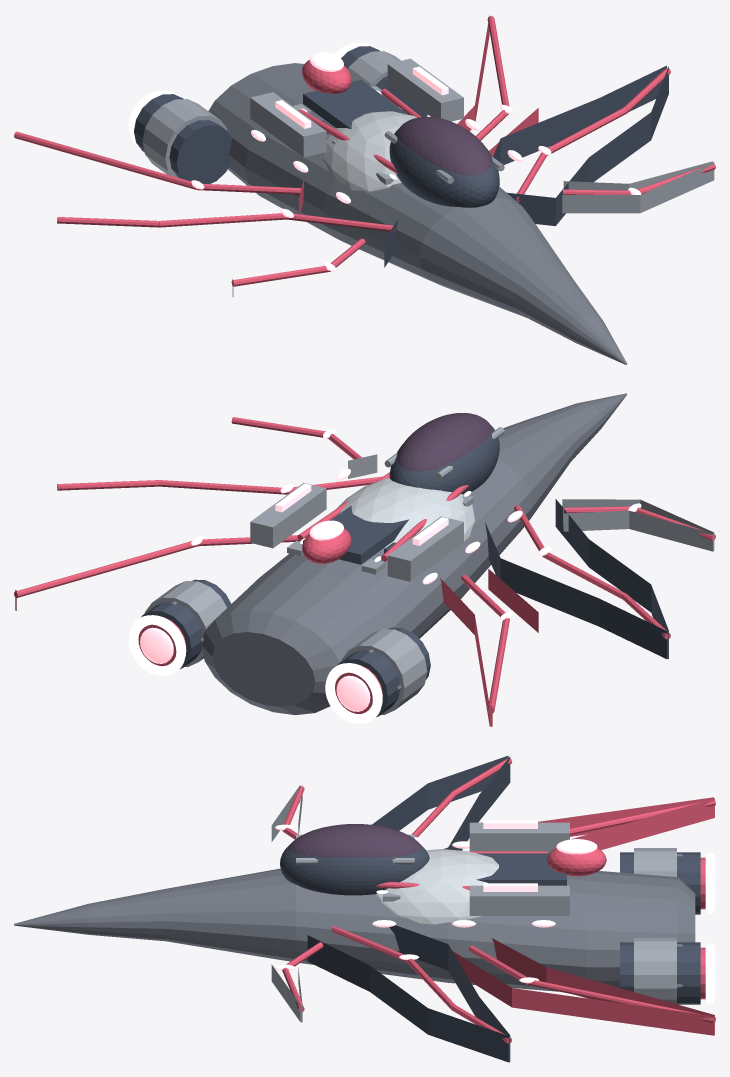
The model's file is SL_RAPTOR_FINAL.glb.
The picture shows the model from 3 angles, top to bottom: view 1: azimuth 30°, elevation 25°; view 2: azimuth 150°, elevation 25°; view 3: azimuth 270°, elevation 25°; orthographic projection. The views are drawn at different scales.
Parts seen in each view (by area): view 1: RAPTOR_hull, RAPTOR_dark, RAPTOR_steel, RAPTOR_accent, RAPTOR_ivory, RAPTOR_glass, RAPTOR_neon, RAPTOR_hot; view 2: RAPTOR_hull, RAPTOR_dark, RAPTOR_steel, RAPTOR_accent, RAPTOR_neon, RAPTOR_ivory, RAPTOR_glass, RAPTOR_hot; view 3: RAPTOR_hull, RAPTOR_dark, RAPTOR_accent, RAPTOR_steel, RAPTOR_ivory, RAPTOR_glass, RAPTOR_neon, RAPTOR_hot.
Part boxes in pixels (x1=…): RAPTOR_hull: x1=208, y1=63, x2=626, y2=364; RAPTOR_dark: x1=134, y1=46, x2=668, y2=267; RAPTOR_steel: x1=142, y1=51, x2=714, y2=297; RAPTOR_accent: x1=14, y1=15, x2=715, y2=286; RAPTOR_ivory: x1=323, y1=111, x2=417, y2=191; RAPTOR_glass: x1=397, y1=116, x2=491, y2=175; RAPTOR_neon: x1=191, y1=52, x2=641, y2=271; RAPTOR_hot: x1=128, y1=42, x2=401, y2=179; RAPTOR_hull: x1=170, y1=393, x2=627, y2=715; RAPTOR_dark: x1=141, y1=425, x2=668, y2=717; RAPTOR_steel: x1=144, y1=427, x2=714, y2=714; RAPTOR_accent: x1=14, y1=417, x2=715, y2=726; RAPTOR_neon: x1=140, y1=429, x2=641, y2=711; RAPTOR_ivory: x1=337, y1=478, x2=474, y2=547; RAPTOR_glass: x1=397, y1=413, x2=491, y2=471; RAPTOR_hot: x1=128, y1=491, x2=471, y2=723; RAPTOR_hull: x1=14, y1=854, x2=695, y2=991; RAPTOR_dark: x1=280, y1=755, x2=700, y2=1062; RAPTOR_accent: x1=282, y1=758, x2=715, y2=1043; RAPTOR_steel: x1=271, y1=785, x2=676, y2=1022; RAPTOR_ivory: x1=376, y1=849, x2=498, y2=924; RAPTOR_glass: x1=288, y1=824, x2=421, y2=858; RAPTOR_neon: x1=275, y1=820, x2=715, y2=983; RAPTOR_hot: x1=376, y1=853, x2=715, y2=1003.
Bounding box in the file's own units: 6.44 × 1.65 × 6.78.
